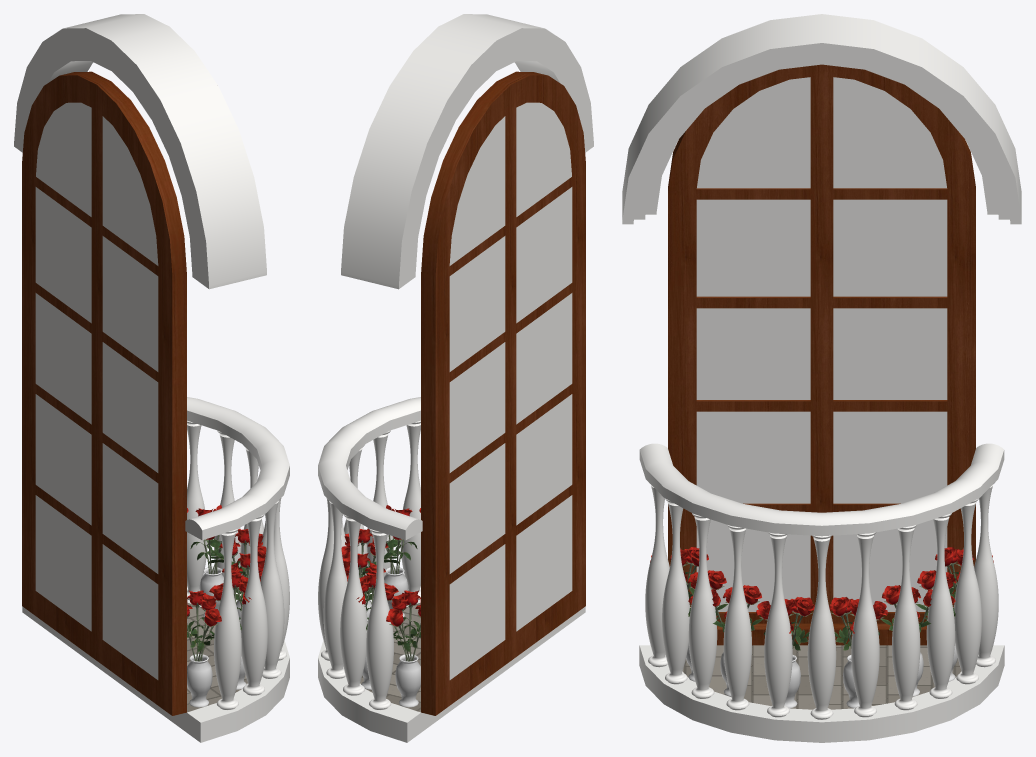
The picture shows the model from 3 angles, left to right: view 1: azimuth 30°, elevation 25°; view 2: azimuth 150°, elevation 25°; view 3: azimuth 270°, elevation 25°; orthographic projection. The views are drawn at different scales.
Visible parts, largest first — view 1: Group 38, Group 37, Group 41 (×7), Group 39, Group 40, Jar (×2); view 2: Group 38, Group 37, Group 41 (×7), Group 39, Group 40, Jar (×2); view 3: Group 38, Group 41 (×11), Group 37, Group 40, Group 39.
Boxes of the visible parts, x1=… form: Group 38: x1=22, y1=71, x2=186, y2=715; Group 37: x1=14, y1=14, x2=266, y2=289; Group 41 (×7): x1=187, y1=420, x2=289, y2=709; Group 39: x1=185, y1=397, x2=289, y2=540; Group 40: x1=22, y1=599, x2=289, y2=742; Jar (×2): x1=187, y1=566, x2=223, y2=707; Group 38: x1=421, y1=71, x2=585, y2=715; Group 37: x1=341, y1=14, x2=593, y2=289; Group 41 (×7): x1=318, y1=420, x2=420, y2=709; Group 39: x1=318, y1=397, x2=422, y2=540; Group 40: x1=318, y1=599, x2=585, y2=742; Jar (×2): x1=384, y1=566, x2=420, y2=707; Group 38: x1=668, y1=64, x2=975, y2=645; Group 41 (×11): x1=645, y1=483, x2=998, y2=719; Group 37: x1=622, y1=14, x2=1021, y2=224; Group 40: x1=639, y1=645, x2=1004, y2=742; Group 39: x1=639, y1=443, x2=1004, y2=536.
Bounding box in the file's own units: 0.889 × 3.2 × 1.78.
7 materials, 4 textured.
